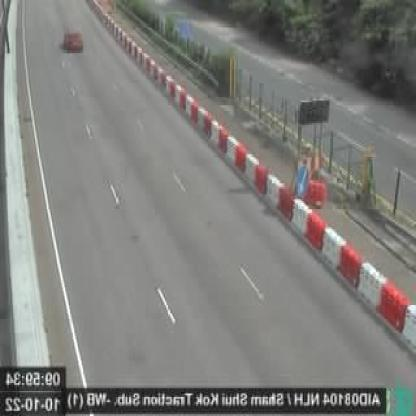Car: (63, 29, 83, 53)
